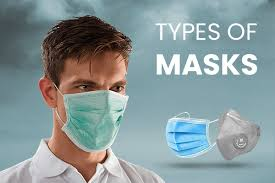with-mask: (36, 17, 139, 155)
